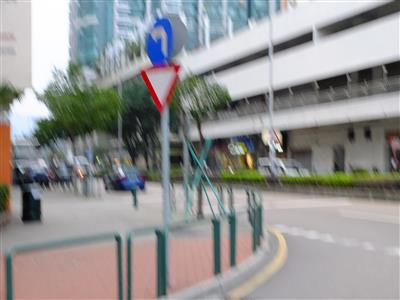leftTurnOnly: (143, 16, 180, 66)
yield: (135, 60, 186, 115)
